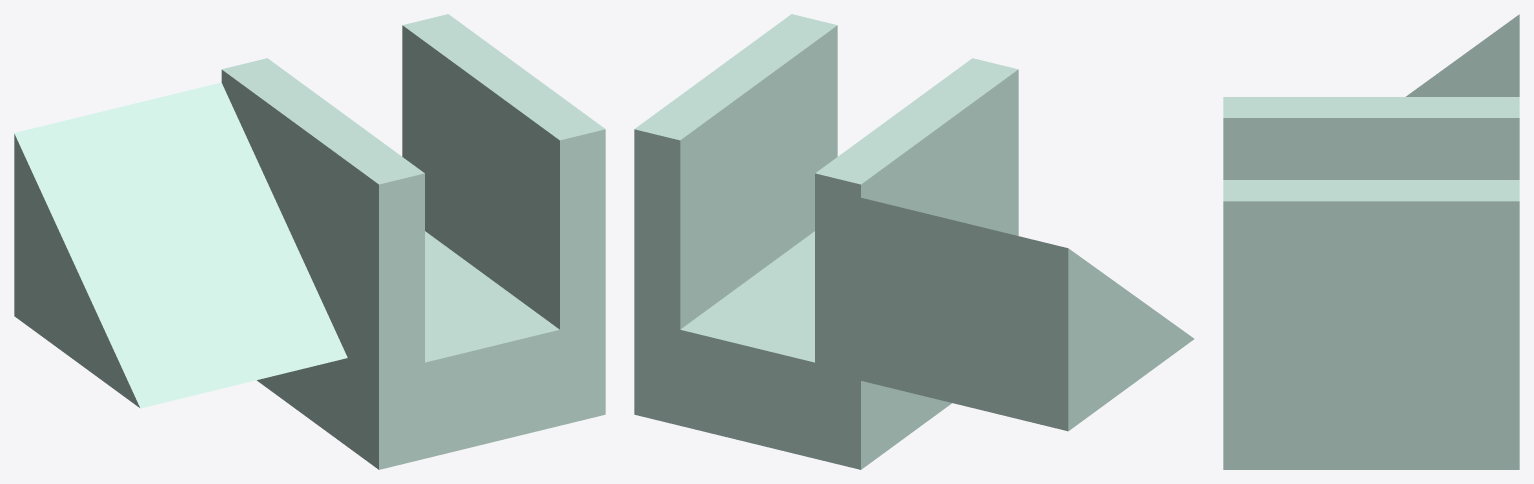
3 renders of one model, left to right at view 1: azimuth 30°, elevation 25°; view 2: azimuth 150°, elevation 25°; view 3: azimuth 270°, elevation 25°, orthographic. The views are drawn at different scales.
Parts seen in each view (by area): view 1: Renderer Node; view 2: Renderer Node; view 3: Renderer Node.
Part boxes in pixels (box(x1,y1,x2,y2)): Renderer Node: box(14, 14, 605, 469); Renderer Node: box(634, 14, 1194, 469); Renderer Node: box(1223, 14, 1519, 469).
Bounding box in the file's own units: 1.19 × 0.75 × 0.75.
